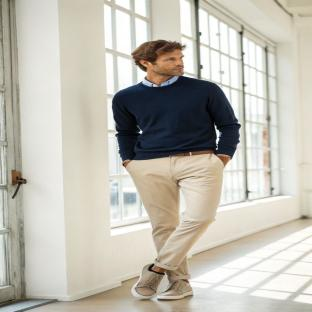Human: (112, 40, 240, 300)
